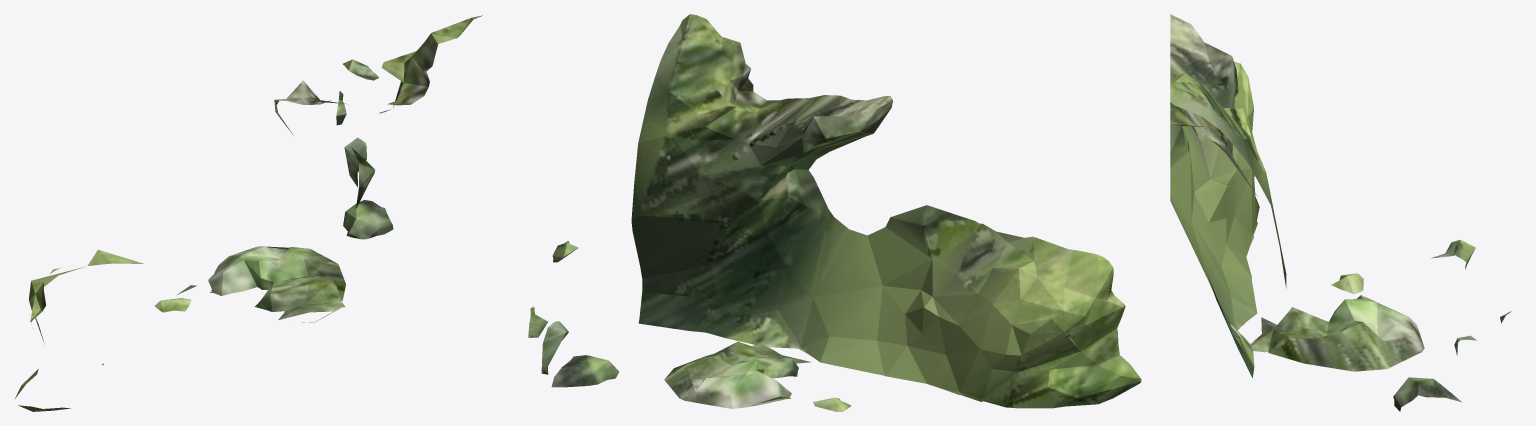
3 views of the same model, side by side, from view 1: azimuth 30°, elevation 25°; view 2: azimuth 150°, elevation 25°; view 3: azimuth 270°, elevation 25° (orthographic). The views are drawn at different scales.
Size of the model in its own units: 19.13 by 11.15 by 11.09.
1 material, 1 textured.
